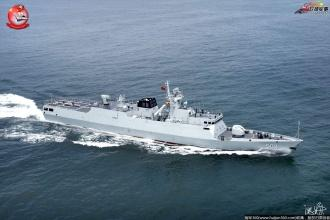warship: (40, 84, 299, 156)
